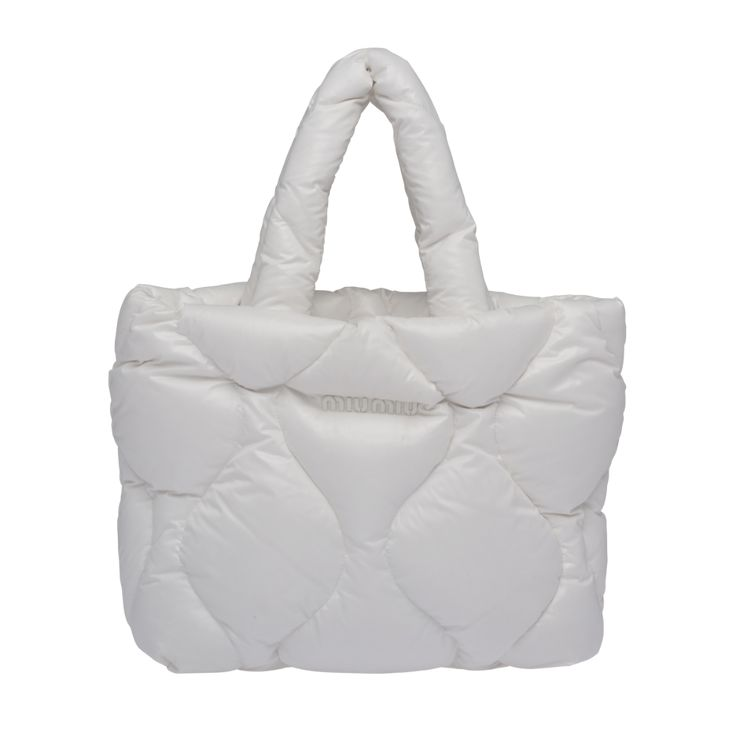nylon: (109, 46, 628, 674)
